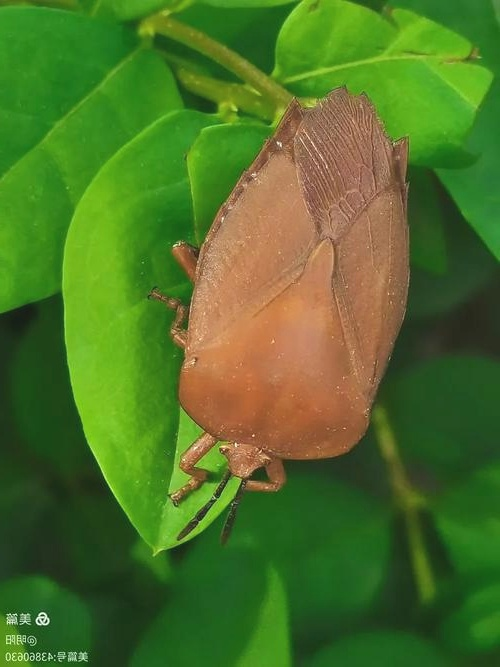Stink_Bug: (150, 97, 428, 493)
